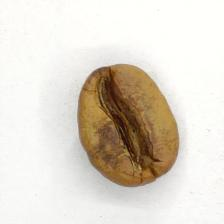NG: (89, 69, 162, 171)
